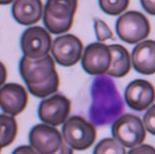M: (80, 72, 125, 128)
